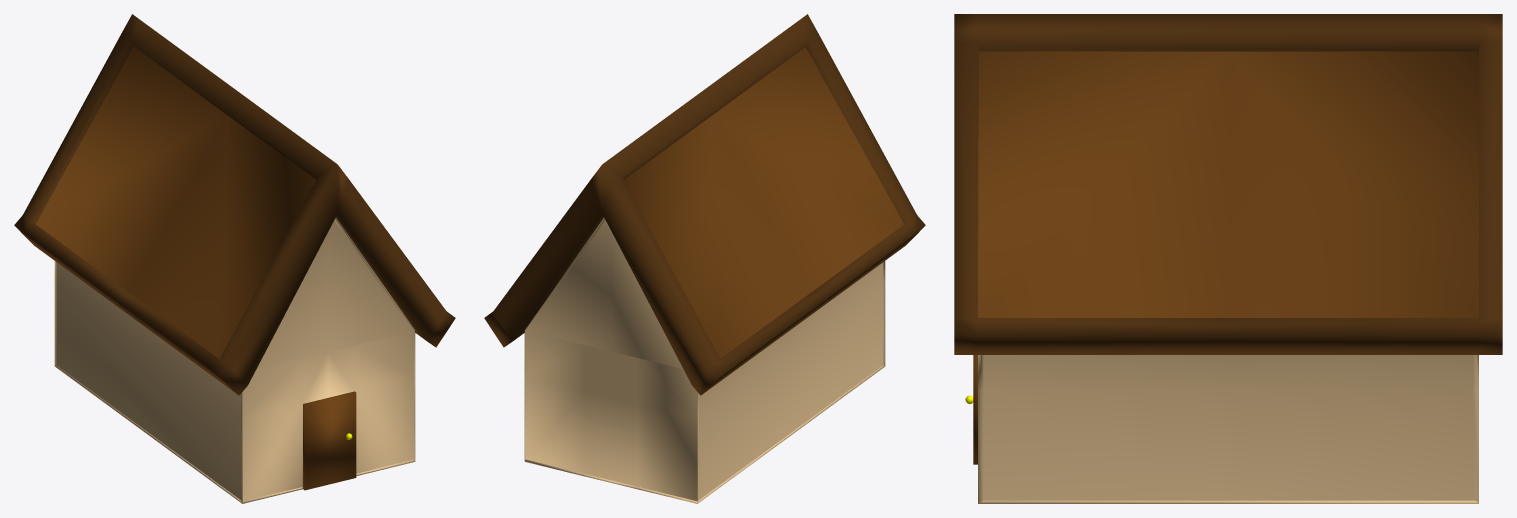
File: Neighbors House.fbx
3 views of the same model, side by side, from view 1: azimuth 30°, elevation 25°; view 2: azimuth 150°, elevation 25°; view 3: azimuth 270°, elevation 25° (orthographic). The views are drawn at different scales.
Visible parts, largest first — view 1: House, Door.001; view 2: House; view 3: House, Door.001.
Boxes of the visible parts, x1,y1,x2,y2 form: House: [14, 14, 455, 503]; Door.001: [303, 391, 356, 490]; House: [484, 14, 925, 503]; House: [954, 14, 1502, 503]; Door.001: [965, 355, 977, 464].
Bounding box in the file's own units: 992 × 1304 × 1494.
